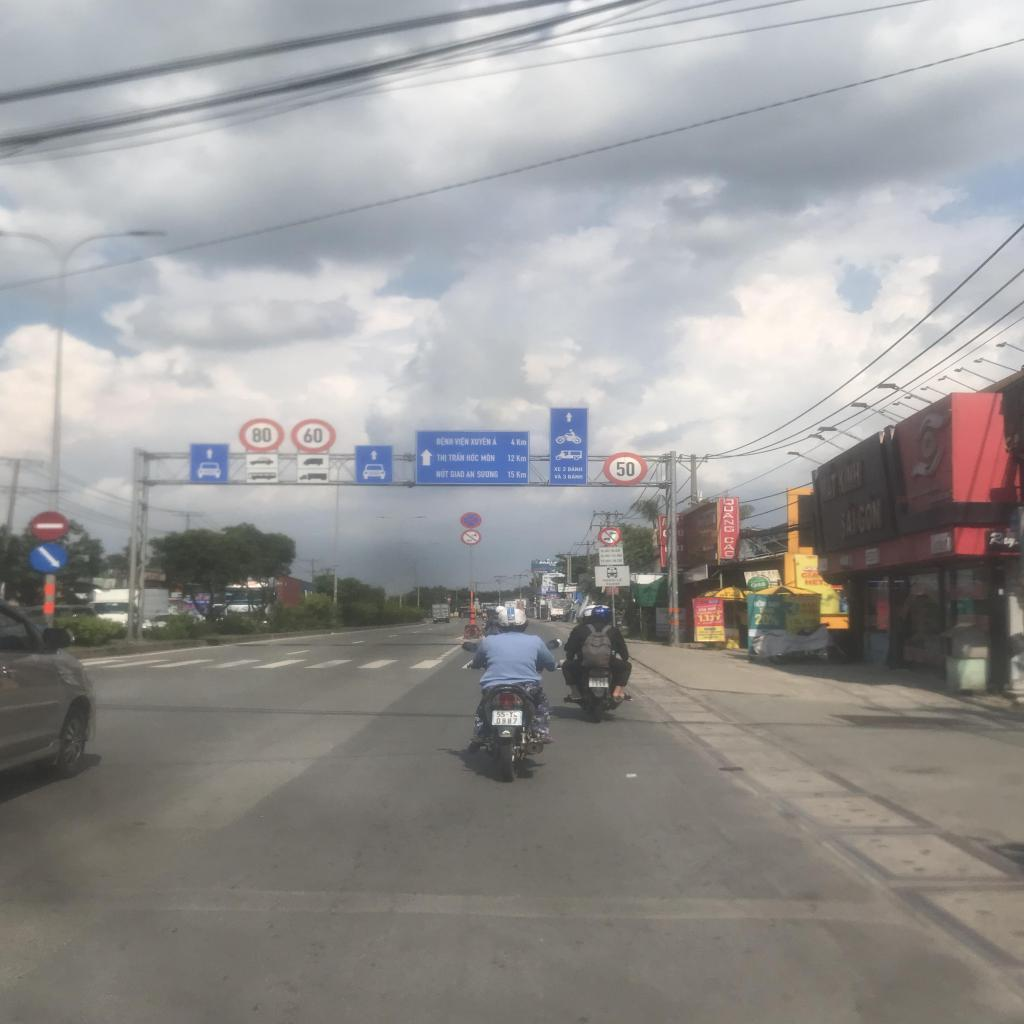cam_dung_xe_va_do_xe: (458, 511, 482, 528)
cam_o_to_tai_va_xe_khach: (598, 527, 623, 546)
cam_xe_2_banh_va_xe_3_banh_co_dong_co: (459, 529, 483, 546)
cam_xe_di_nguoc_chieu: (27, 508, 68, 539)
duong_cho_xe_o_to: (190, 443, 230, 484), (353, 444, 392, 484)
huong_phai_di_vuot_chuong_ngai_vat_phai: (27, 544, 69, 573)
khac: (412, 430, 530, 483), (551, 406, 588, 485), (593, 566, 631, 588), (598, 547, 625, 566), (296, 455, 330, 469), (245, 469, 278, 483), (296, 470, 329, 483), (245, 455, 278, 468)
toc_do_toi_da_50: (288, 417, 337, 453), (602, 452, 649, 486)
toc_do_toi_da_80: (237, 416, 287, 455)
